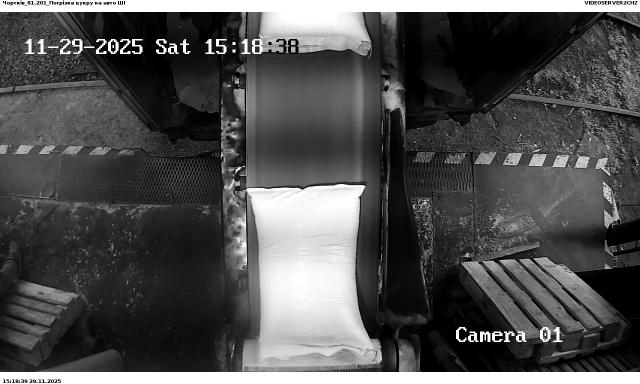bag: (247, 185, 378, 363), (260, 12, 372, 55)
